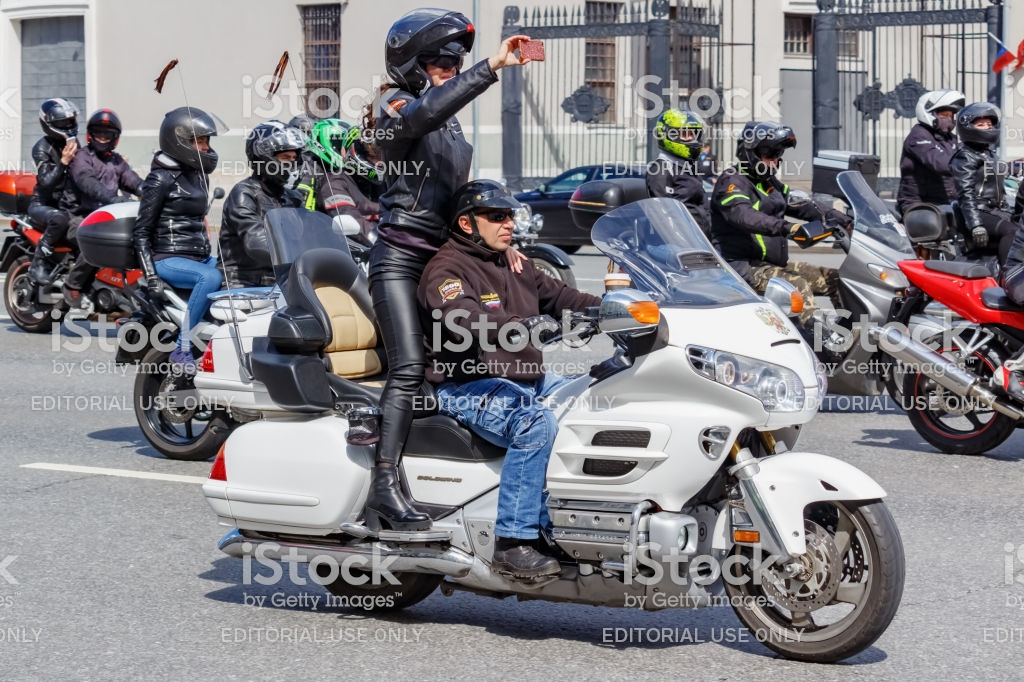helmet: (380, 4, 482, 89), (156, 105, 223, 175), (30, 93, 87, 148), (657, 104, 712, 159), (741, 117, 802, 166), (959, 98, 1008, 159), (447, 173, 512, 211), (908, 83, 955, 124), (87, 109, 120, 156)
